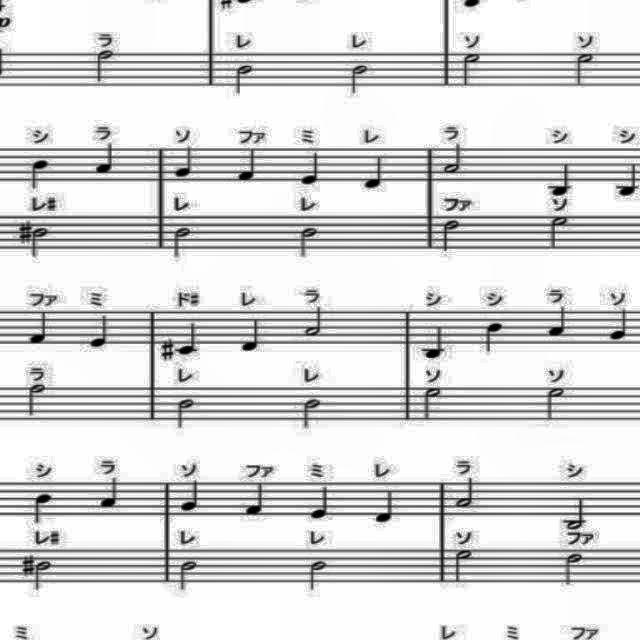Diez: (16, 550, 36, 578), (158, 337, 176, 363), (17, 220, 33, 248)
Half-note: (566, 46, 602, 86), (164, 222, 196, 262), (438, 216, 467, 260), (456, 48, 486, 88), (415, 384, 445, 424), (301, 304, 331, 342), (22, 381, 50, 421), (346, 60, 374, 98), (294, 223, 322, 261), (304, 559, 334, 593), (168, 396, 196, 432), (450, 546, 478, 582), (29, 223, 55, 261), (544, 385, 570, 423), (92, 48, 118, 84), (561, 550, 587, 586), (454, 475, 478, 513), (549, 212, 571, 252), (442, 142, 466, 178), (176, 556, 200, 592), (302, 396, 324, 434), (232, 60, 252, 96), (35, 556, 53, 594)
Quarter-note: (416, 318, 452, 364), (238, 478, 274, 522), (295, 145, 329, 187), (371, 482, 402, 528), (360, 150, 392, 194), (85, 312, 115, 356), (95, 474, 126, 514), (606, 306, 634, 350), (542, 304, 574, 342), (176, 475, 204, 517), (547, 160, 579, 196), (240, 314, 266, 358), (306, 482, 334, 522), (173, 318, 201, 357), (562, 495, 590, 533), (28, 488, 56, 526), (26, 308, 52, 348), (480, 314, 506, 352), (614, 160, 638, 200), (95, 140, 121, 176), (28, 154, 52, 192), (172, 144, 196, 182), (236, 146, 260, 184)
